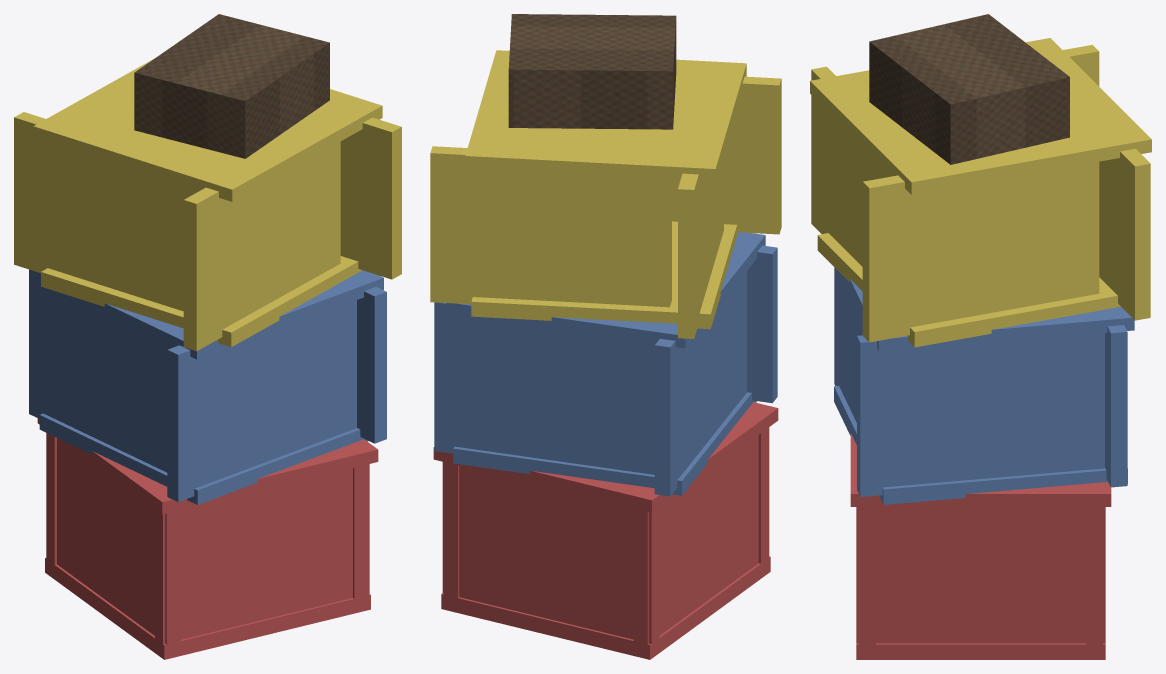
The model's file is WK_PRP_MilkCrates.glb.
3 views of the same model, side by side, from view 1: azimuth 30°, elevation 25°; view 2: azimuth 150°, elevation 25°; view 3: azimuth 270°, elevation 25° (orthographic). The views are drawn at different scales.
Parts seen in each view (by area): view 1: WK_PRP_MilkCrates_P08, WK_PRP_MilkCrates_P02, WK_PRP_MilkCrates_P15, WK_PRP_MilkCrates_P14, WK_PRP_MilkCrates_P19, WK_PRP_MilkCrates_P09, WK_PRP_MilkCrates_P18, WK_PRP_MilkCrates_P03, WK_PRP_MilkCrates_P17, WK_PRP_MilkCrates_P13, WK_PRP_MilkCrates_P01, WK_PRP_MilkCrates_P06 (+5 smaller); view 2: WK_PRP_MilkCrates_P16, WK_PRP_MilkCrates_P10, WK_PRP_MilkCrates_P04, WK_PRP_MilkCrates_P19, WK_PRP_MilkCrates_P18, WK_PRP_MilkCrates_P03, WK_PRP_MilkCrates_P09, WK_PRP_MilkCrates_P14, WK_PRP_MilkCrates_P13, WK_PRP_MilkCrates_P15, WK_PRP_MilkCrates_P01, WK_PRP_MilkCrates_P06 (+5 smaller); view 3: WK_PRP_MilkCrates_P11, WK_PRP_MilkCrates_P17, WK_PRP_MilkCrates_P05, WK_PRP_MilkCrates_P19, WK_PRP_MilkCrates_P18, WK_PRP_MilkCrates_P16, WK_PRP_MilkCrates_P14, WK_PRP_MilkCrates_P13, WK_PRP_MilkCrates_P07, WK_PRP_MilkCrates_P06, WK_PRP_MilkCrates_P01, WK_PRP_MilkCrates_P12 (+5 smaller).
Boxes of the visible parts, left/top/right/bottom form: WK_PRP_MilkCrates_P08: left=167, top=300, right=356, bottom=501; WK_PRP_MilkCrates_P02: left=155, top=464, right=369, bottom=651; WK_PRP_MilkCrates_P15: left=14, top=112, right=198, bottom=311; WK_PRP_MilkCrates_P14: left=183, top=141, right=340, bottom=351; WK_PRP_MilkCrates_P19: left=134, top=14, right=329, bottom=158; WK_PRP_MilkCrates_P09: left=29, top=269, right=171, bottom=472; WK_PRP_MilkCrates_P18: left=33, top=59, right=382, bottom=201; WK_PRP_MilkCrates_P03: left=57, top=438, right=180, bottom=649; WK_PRP_MilkCrates_P17: left=340, top=117, right=401, bottom=279; WK_PRP_MilkCrates_P13: left=41, top=256, right=362, bottom=347; WK_PRP_MilkCrates_P01: left=45, top=558, right=370, bottom=659; WK_PRP_MilkCrates_P06: left=37, top=418, right=378, bottom=514; WK_PRP_MilkCrates_P16: left=430, top=146, right=671, bottom=307; WK_PRP_MilkCrates_P10: left=434, top=302, right=654, bottom=474; WK_PRP_MilkCrates_P04: left=442, top=462, right=659, bottom=650; WK_PRP_MilkCrates_P19: left=508, top=14, right=676, bottom=129; WK_PRP_MilkCrates_P18: left=465, top=50, right=746, bottom=181; WK_PRP_MilkCrates_P03: left=633, top=435, right=758, bottom=648; WK_PRP_MilkCrates_P09: left=654, top=271, right=746, bottom=496; WK_PRP_MilkCrates_P14: left=672, top=76, right=781, bottom=234; WK_PRP_MilkCrates_P13: left=471, top=221, right=737, bottom=329; WK_PRP_MilkCrates_P15: left=678, top=153, right=723, bottom=338; WK_PRP_MilkCrates_P01: left=441, top=556, right=770, bottom=659; WK_PRP_MilkCrates_P06: left=433, top=402, right=778, bottom=512; WK_PRP_MilkCrates_P11: left=857, top=333, right=1104, bottom=496; WK_PRP_MilkCrates_P17: left=862, top=161, right=1099, bottom=342; WK_PRP_MilkCrates_P05: left=856, top=507, right=1105, bottom=643; WK_PRP_MilkCrates_P19: left=869, top=14, right=1069, bottom=164; WK_PRP_MilkCrates_P18: left=810, top=38, right=1151, bottom=194; WK_PRP_MilkCrates_P16: left=1099, top=148, right=1150, bottom=320; WK_PRP_MilkCrates_P14: left=811, top=66, right=892, bottom=266; WK_PRP_MilkCrates_P13: left=817, top=233, right=1120, bottom=347; WK_PRP_MilkCrates_P07: left=834, top=386, right=1127, bottom=504; WK_PRP_MilkCrates_P06: left=850, top=433, right=1111, bottom=506; WK_PRP_MilkCrates_P01: left=856, top=643, right=1105, bottom=659; WK_PRP_MilkCrates_P12: left=842, top=275, right=1134, bottom=352.
Size of the model in its own units: 0.6028 by 1.09 by 0.6028.
4 materials, 1 textured.
